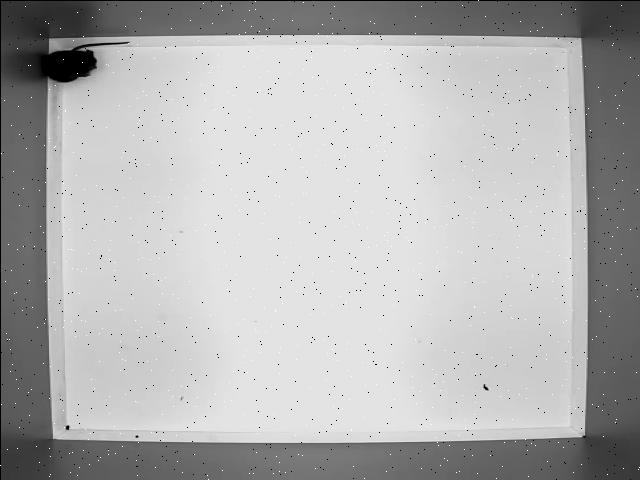Tikus: (36, 31, 142, 88)
